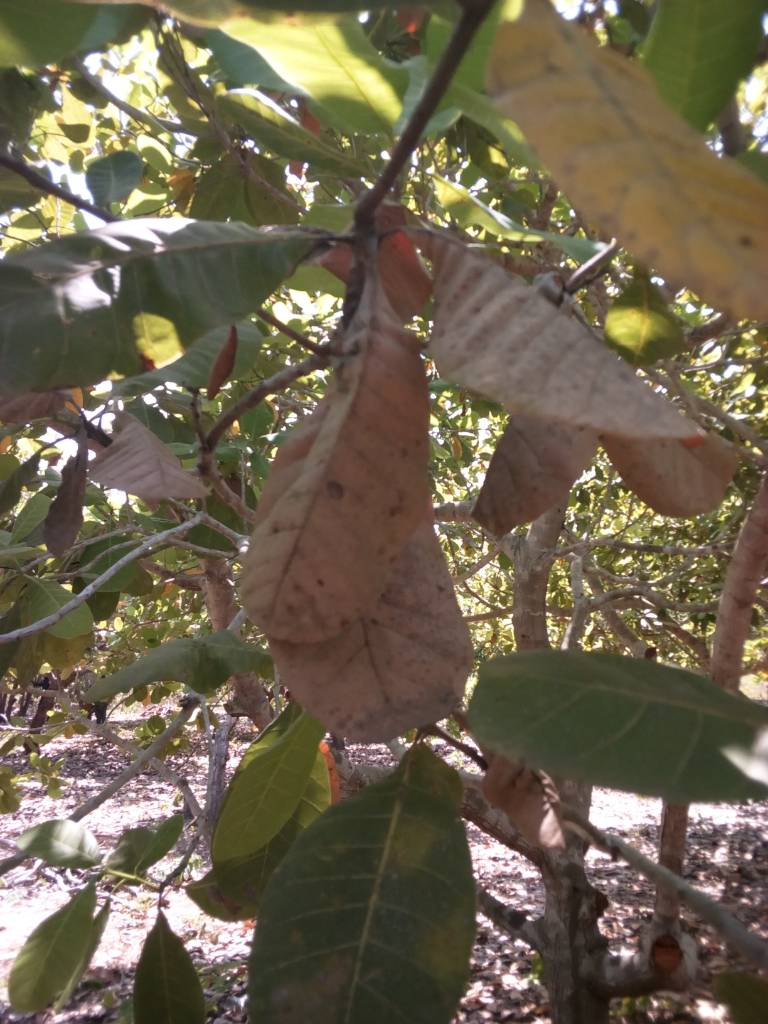Anthracnose: (246, 752, 508, 1022)
